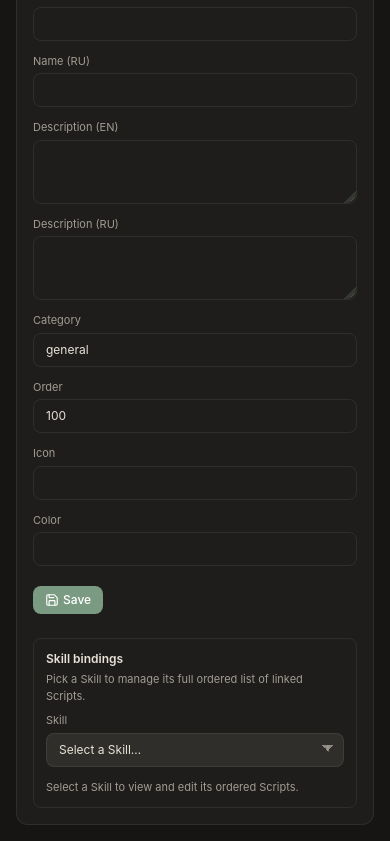
AdminScriptsPage integration › ignores an out-of-order bindings response from an earlier Skill selection
(page scrolled)
Select "Reporting" in the dropdown labelled "Skill" at (195, 750), box [46,732,344,766]
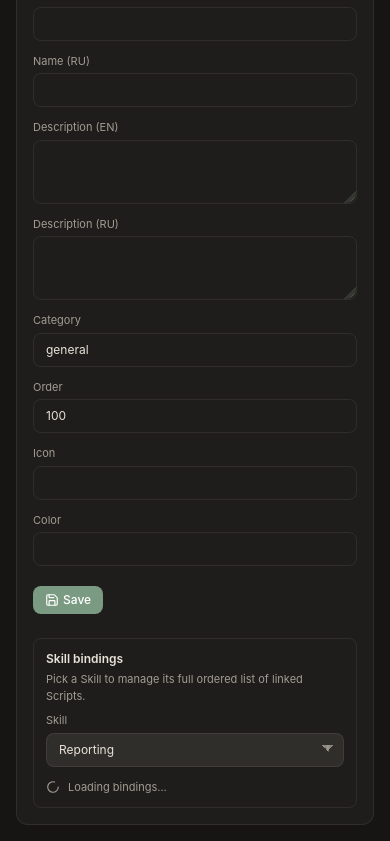
Select "Delivery" in the dropdown labelled "Skill" at (195, 750), box [46,732,344,766]
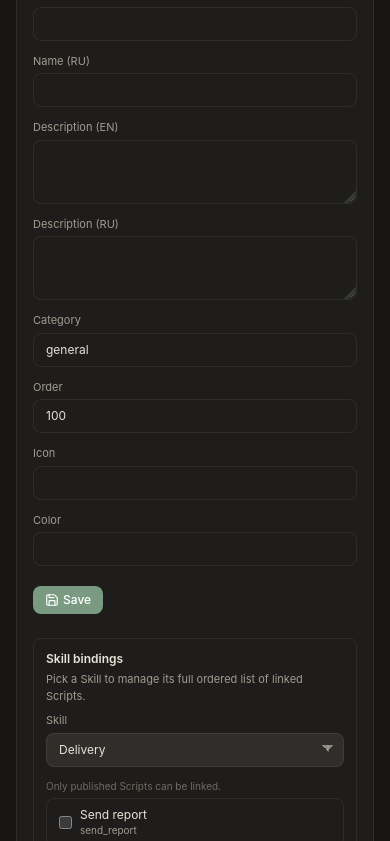
Expected: the checkbox named "Link Script: Send report" is not checked, [59,816,72,828]
